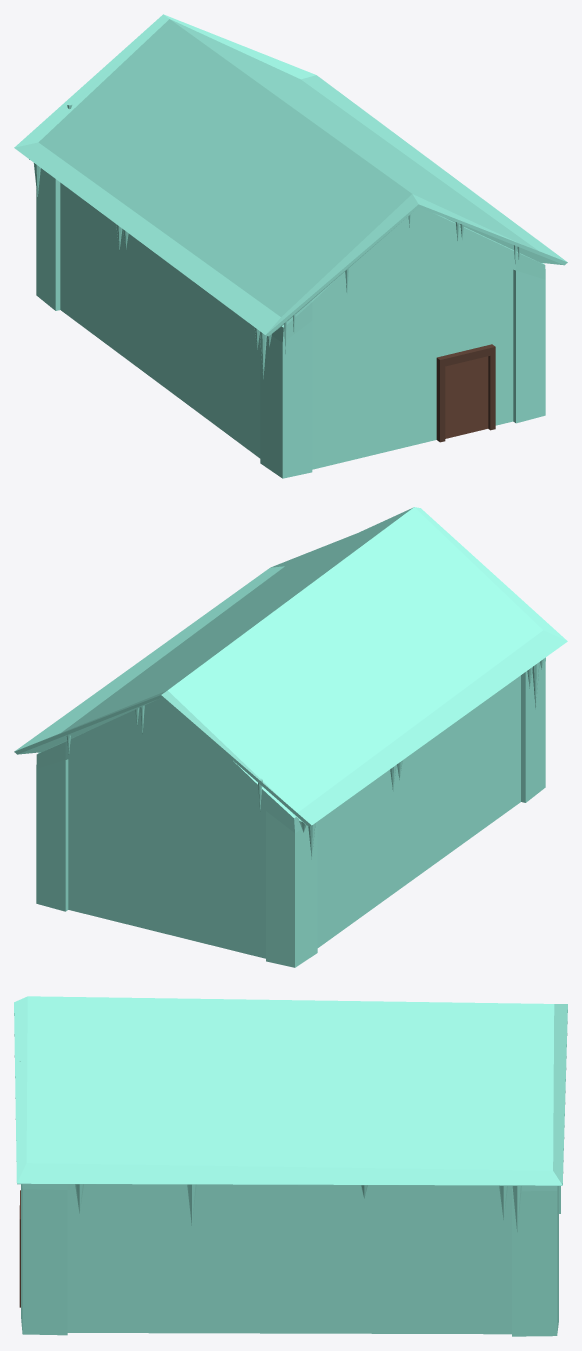
The model's file is BigHouseSnowGlacier.fbx.
3 renders of one model, top to bottom at view 1: azimuth 30°, elevation 25°; view 2: azimuth 150°, elevation 25°; view 3: azimuth 270°, elevation 25°, orthographic. The views are drawn at different scales.
Visible parts, largest first — view 1: BigHouseFrozenGlacier; view 2: BigHouseFrozenGlacier; view 3: BigHouseFrozenGlacier.
Part boxes in pixels (left/top/right/bottom): BigHouseFrozenGlacier: left=14, top=14, right=567, bottom=478; BigHouseFrozenGlacier: left=14, top=507, right=567, bottom=967; BigHouseFrozenGlacier: left=14, top=996, right=567, bottom=1336.
Bounding box in the file's own units: 10.75 × 15.78 × 8.48.
